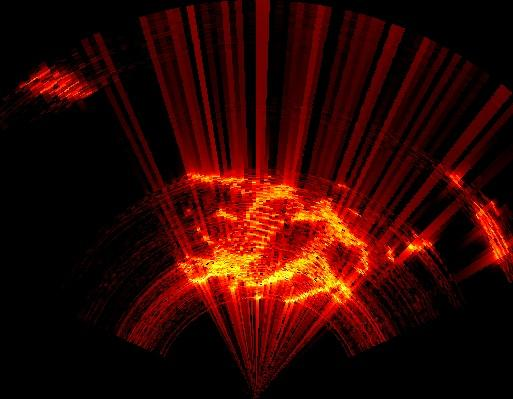shipwreck: (180, 175, 369, 302), (472, 200, 509, 260), (386, 229, 430, 264)
